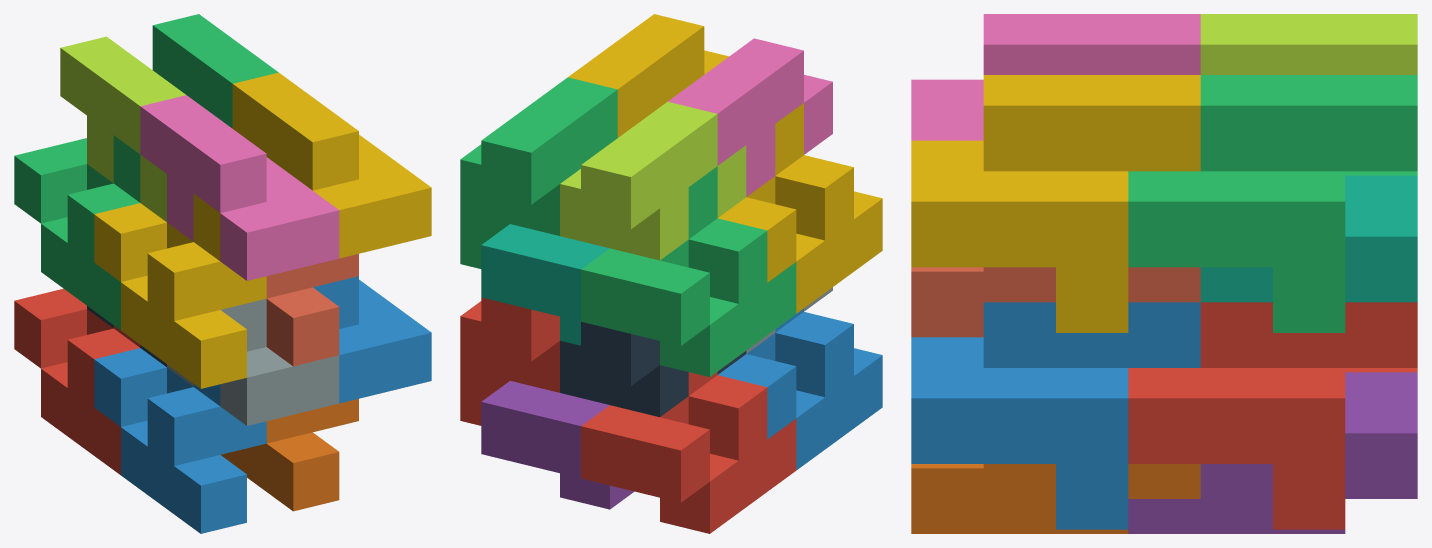
File: tiling.obj
3 views of the same model, side by side, from view 1: azimuth 30°, elevation 25°; view 2: azimuth 150°, elevation 25°; view 3: azimuth 270°, elevation 25° (orthographic). The views are drawn at different scales.
Visible parts, largest first — view 1: copy_2_domain_4, copy_1_domain_4, copy_1_domain_2, copy_2_domain_8, copy_1_domain_3, copy_1_domain_1, copy_2_domain_3, copy_2_domain_6, copy_1_domain_6, copy_2_domain_2, copy_2_domain_7, copy_1_domain_8; view 2: copy_1_domain_3, copy_1_domain_1, copy_2_domain_3, copy_2_domain_7, copy_1_domain_4, copy_1_domain_2, copy_2_domain_4, copy_1_domain_5, copy_2_domain_5, copy_2_domain_8, copy_1_domain_7, copy_2_domain_1; view 3: copy_2_domain_8, copy_2_domain_7, copy_2_domain_6, copy_2_domain_5, copy_2_domain_4, copy_1_domain_5, copy_2_domain_3, copy_1_domain_6, copy_1_domain_7, copy_1_domain_8.
Boxes of the visible parts, x1,y1,x2,y2 form: copy_2_domain_4: [140, 95, 339, 280]; copy_1_domain_4: [94, 194, 266, 388]; copy_1_domain_2: [94, 348, 266, 533]; copy_2_domain_8: [232, 72, 431, 258]; copy_1_domain_3: [14, 135, 140, 330]; copy_1_domain_1: [14, 288, 140, 475]; copy_2_domain_3: [60, 36, 185, 221]; copy_2_domain_6: [313, 276, 431, 403]; copy_1_domain_6: [221, 399, 358, 511]; copy_2_domain_2: [167, 298, 339, 425]; copy_2_domain_7: [152, 14, 278, 128]; copy_1_domain_8: [266, 254, 358, 366]; copy_1_domain_3: [581, 166, 796, 376]; copy_1_domain_1: [581, 372, 796, 533]; copy_2_domain_3: [560, 101, 746, 260]; copy_2_domain_7: [460, 77, 617, 268]; copy_1_domain_4: [718, 103, 882, 313]; copy_1_domain_2: [718, 308, 882, 470]; copy_2_domain_4: [668, 38, 832, 196]; copy_1_domain_5: [481, 381, 634, 509]; copy_2_domain_5: [460, 297, 559, 425]; copy_2_domain_8: [568, 14, 728, 137]; copy_1_domain_7: [481, 224, 609, 345]; copy_2_domain_1: [560, 321, 746, 417]; copy_2_domain_8: [911, 75, 1200, 332]; copy_2_domain_7: [1128, 75, 1417, 332]; copy_2_domain_6: [911, 302, 1200, 529]; copy_2_domain_5: [1128, 302, 1417, 529]; copy_2_domain_4: [911, 14, 1200, 140]; copy_1_domain_5: [1128, 372, 1417, 533]; copy_2_domain_3: [1200, 14, 1417, 74]; copy_1_domain_6: [911, 464, 1200, 533]; copy_1_domain_7: [1200, 175, 1417, 302]; copy_1_domain_8: [911, 267, 1200, 337].
Size of the model in its own units: 5 by 7 by 7.
